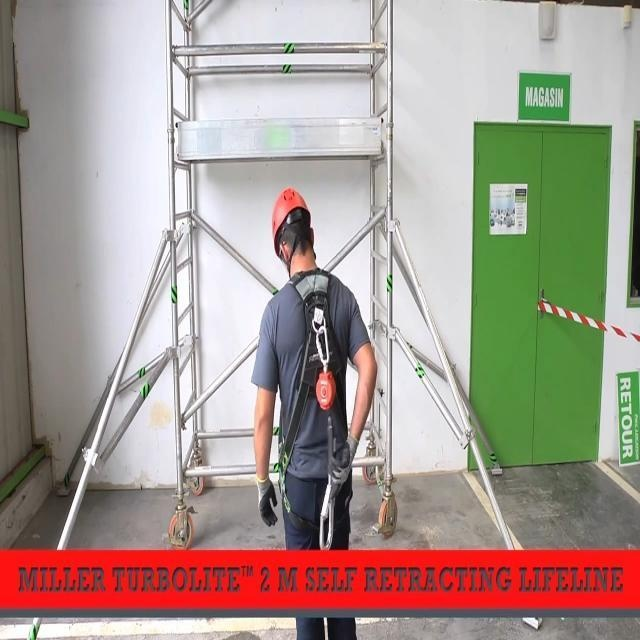Arnes_seguridad: (271, 267, 359, 545)
